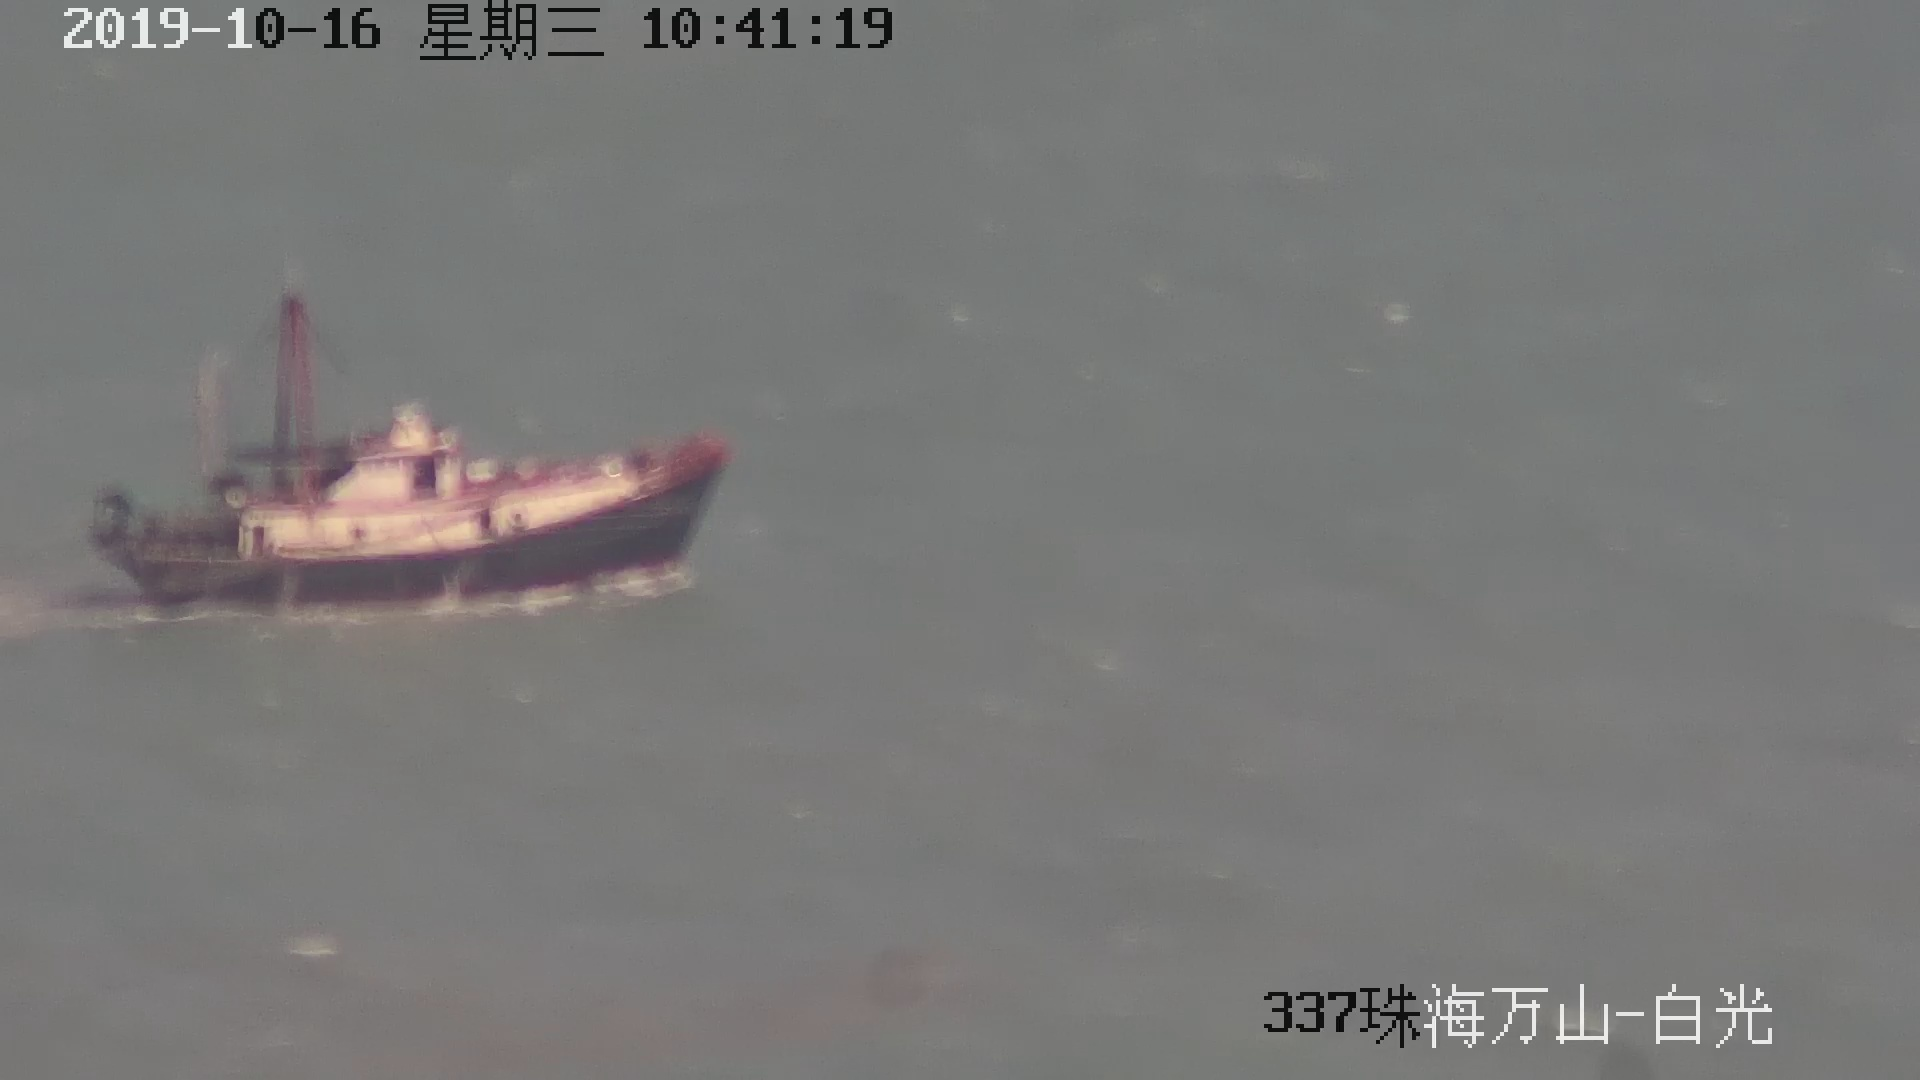ship: (94, 258, 736, 611)
